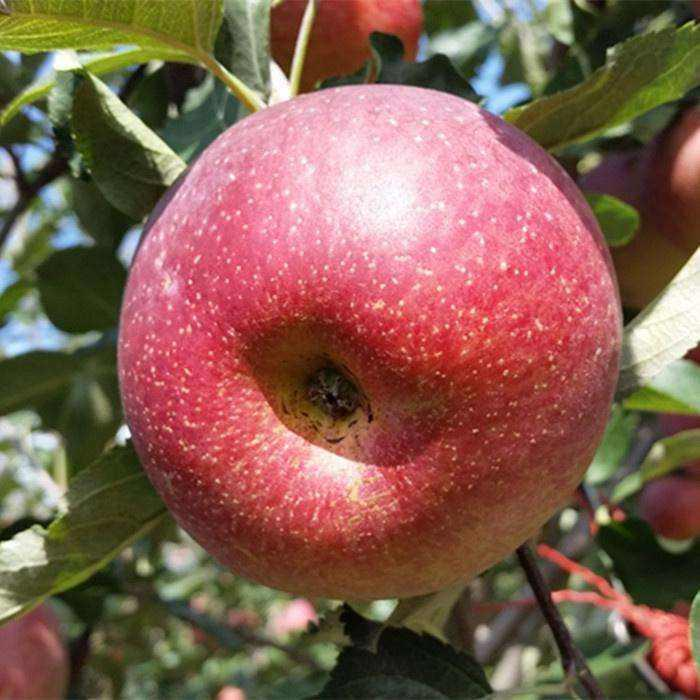apple: (120, 76, 622, 599)
